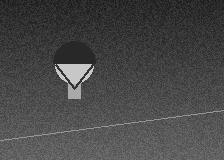helmet: (53, 41, 95, 88)
